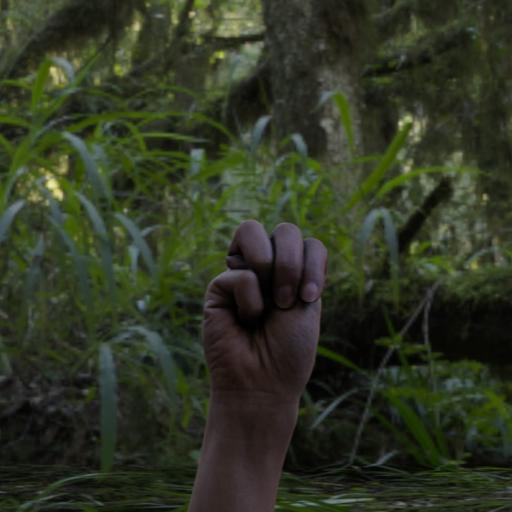M: (188, 201, 339, 512)
